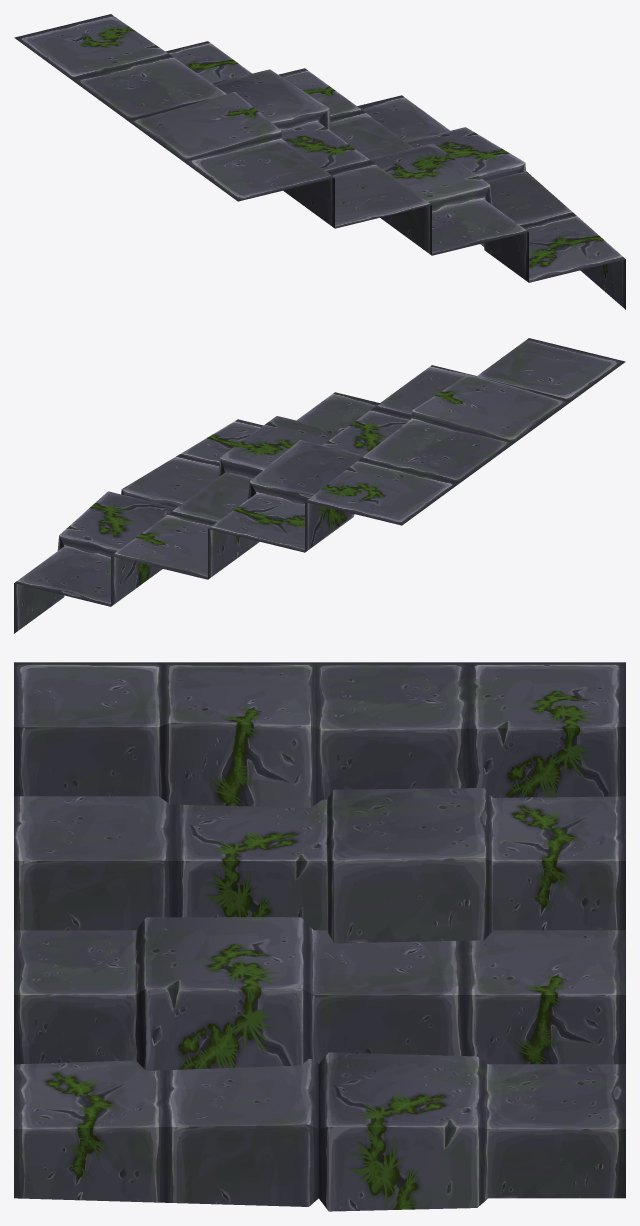
Rendered from MOD_Stairs_01_E_straight_4_half.fbx.
3 renders of one model, top to bottom at view 1: azimuth 30°, elevation 25°; view 2: azimuth 150°, elevation 25°; view 3: azimuth 270°, elevation 25°, orthographic. The views are drawn at different scales.
Visible parts, largest first — view 1: MOD_Stairs_01_E_straight_4_half; view 2: MOD_Stairs_01_E_straight_4_half; view 3: MOD_Stairs_01_E_straight_4_half.
Part boxes in pixels (x1,y1,x2,y2): MOD_Stairs_01_E_straight_4_half: (14, 14, 625, 309); MOD_Stairs_01_E_straight_4_half: (14, 338, 625, 633); MOD_Stairs_01_E_straight_4_half: (14, 662, 625, 1211).
Size of what is drawn, in the model's own units: 210 by 102 by 200.
